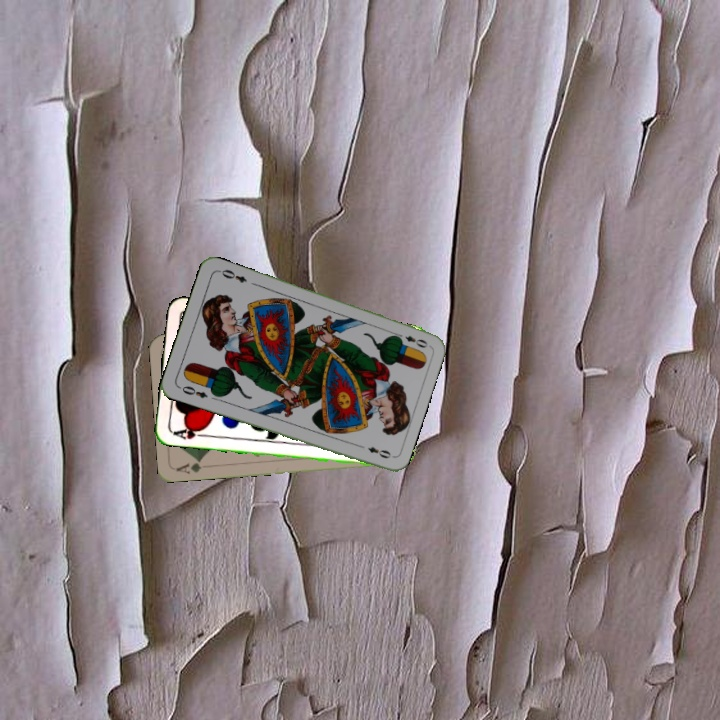EO: (391, 329, 431, 350), (175, 382, 210, 401)
GA: (172, 455, 205, 476)
HA: (169, 422, 209, 442)
